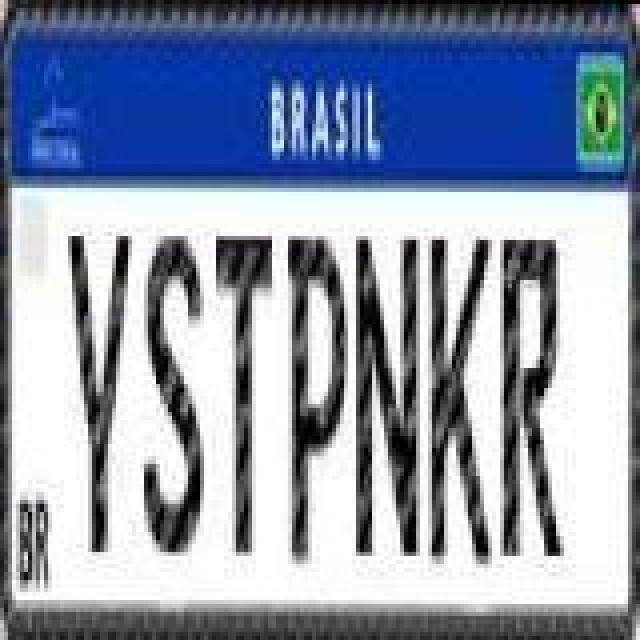K: (428, 234, 492, 570)
N: (356, 232, 420, 556)
P: (284, 234, 348, 570)
R: (500, 234, 564, 558)
S: (144, 232, 208, 556)
T: (214, 232, 274, 556)
Y: (66, 230, 134, 554)
